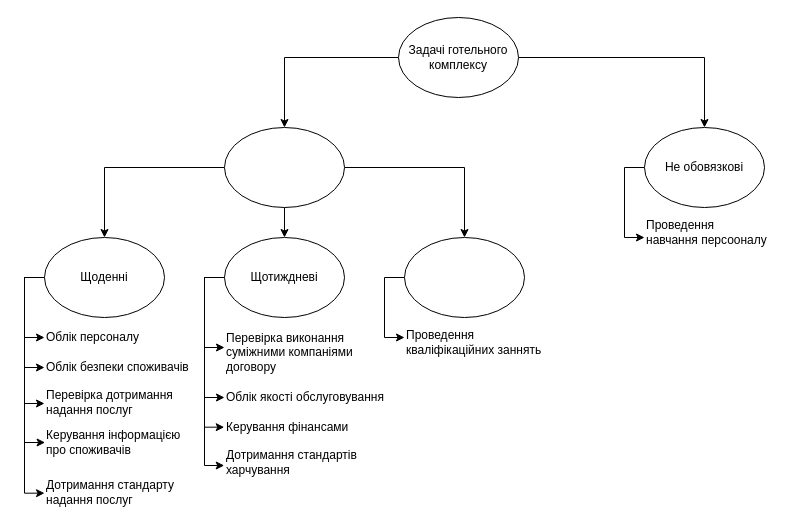
This 802x525 diagram has some shape labels left out. Here are the shapes that lost their labels. From the top down, the centre of each, then its label:
At (x=284, y=167): "Обовязкові".
At (x=464, y=277): "Щомісячні".
